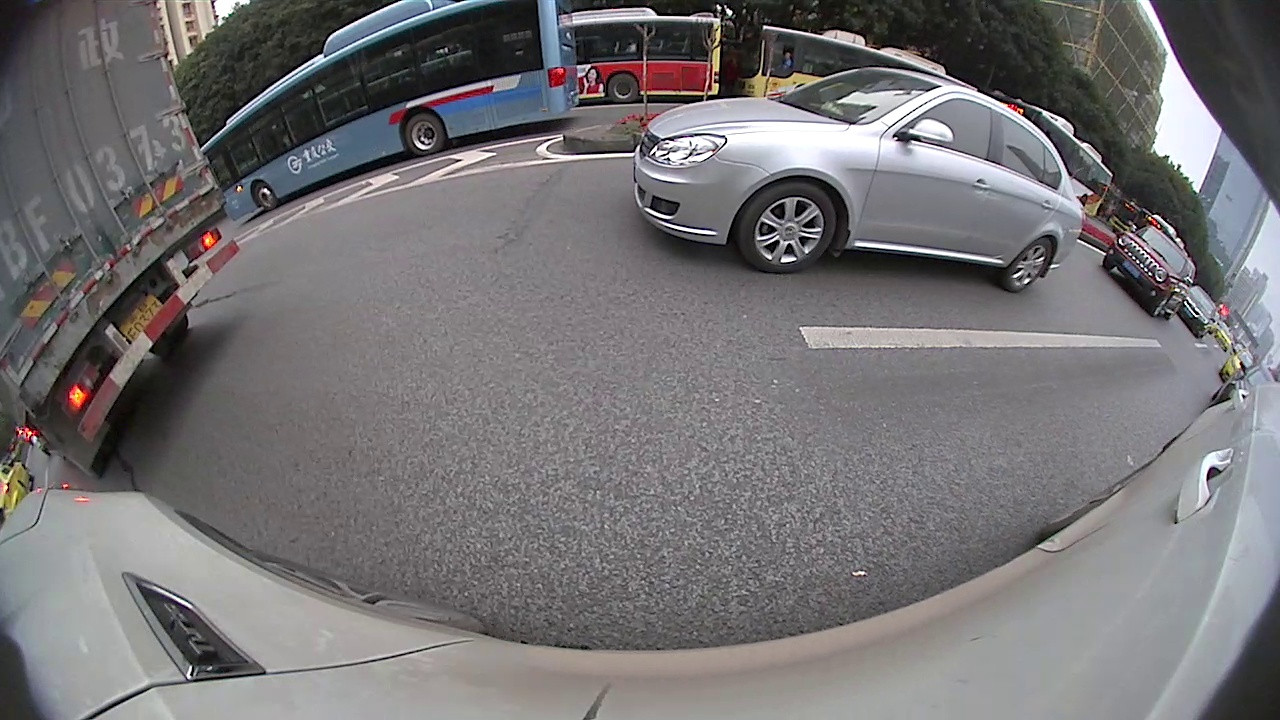bus: (199, 2, 578, 229), (740, 26, 970, 93), (993, 98, 1116, 222), (570, 13, 723, 100)
car: (630, 68, 1088, 293), (1100, 223, 1198, 321), (1179, 284, 1219, 341)
front: (732, 178, 838, 275), (253, 181, 278, 213)
rear: (993, 236, 1053, 291), (403, 111, 446, 157), (606, 73, 639, 98)
truck: (2, 3, 243, 472)
